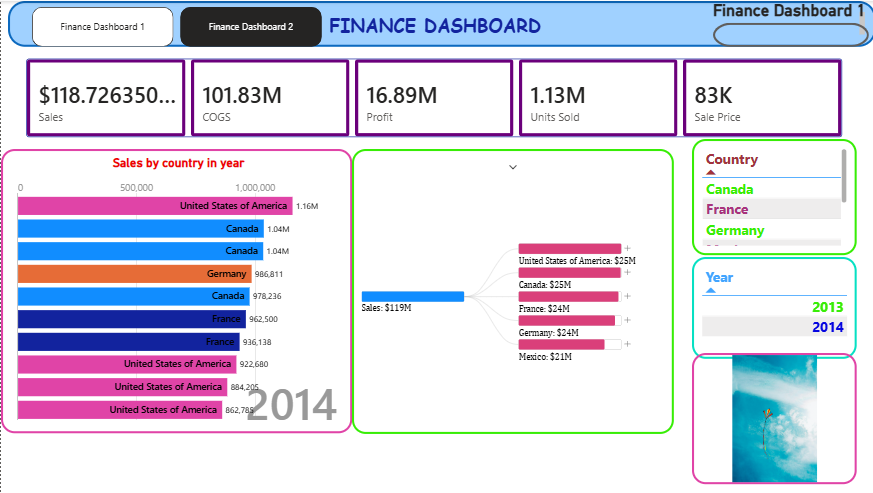

What the dashboard file says about the page in this screenshot:
{"tool":"powerbi","page":{"name":"Finance Dashboard 2","canvas":[1280,720],"ordinal":11},"visuals":[{"type":"textbox","box":[10.2,0,1270.2,67.3],"z":0},{"type":"cardVisual","fields":{"Data":["Sum(financials. Sales)","Sum(financials.COGS)","Sum(financials.Profit)","Sum(financials.Units Sold)","Sum(financials.Sale Price)"]},"box":[0,67.3,1270.2,149.3],"z":1000},{"type":"actionButton","title":"Finance Dashboard 1","box":[1042,0,228.3,67.3],"z":2000},{"type":"wishyoulizationbarchartrace","title":"Sales by country in year","fields":{"name":["financials.Country"],"value":["financials. Sales"],"year":["financials.Date.Variation.Date Hierarchy.Year"]},"box":[0,216.6,513.7,415.6],"z":2001},{"type":"decomposition50DB3783432B40A69C0B91926CE74CD9","fields":{"Measure":["Sum(financials. Sales)"],"Category":["financials.Country","financials.Year"]},"box":[513.7,216.6,471.2,417.1],"z":2002},{"type":"tableEx","fields":{"Values":["financials.Country"]},"box":[1011.2,202,241.5,169.8],"z":2003},{"type":"tableEx","fields":{"Values":["financials.Year"]},"box":[1011.2,374.6,241.5,149.3],"z":2004},{"type":"image","box":[1011.2,515.1,241.5,191.7],"z":2005},{"type":"pageNavigator","box":[45.4,8.8,424.4,58.5],"z":2006}]}

Visuals, with their boxes in screenshot pixels (x1, y1, x2, y2), scaled from the page's 1280x720 canvas onto the 873x493 screenshot:
textbox: (x1=7, y1=0, x2=872, y2=46)
cardVisual - Sum(financials. Sales) x Sum(financials.COGS): (x1=0, y1=46, x2=866, y2=148)
"Finance Dashboard 1" actionButton: (x1=711, y1=0, x2=866, y2=46)
"Sales by country in year" wishyoulizationbarchartrace: (x1=0, y1=148, x2=350, y2=433)
decomposition50DB3783432B40A69C0B91926CE74CD9 - Sum(financials. Sales) x financials.Country: (x1=350, y1=148, x2=672, y2=434)
tableEx - financials.Country: (x1=690, y1=138, x2=854, y2=255)
tableEx - financials.Year: (x1=690, y1=256, x2=854, y2=359)
image: (x1=690, y1=353, x2=854, y2=484)
pageNavigator: (x1=31, y1=6, x2=320, y2=46)
